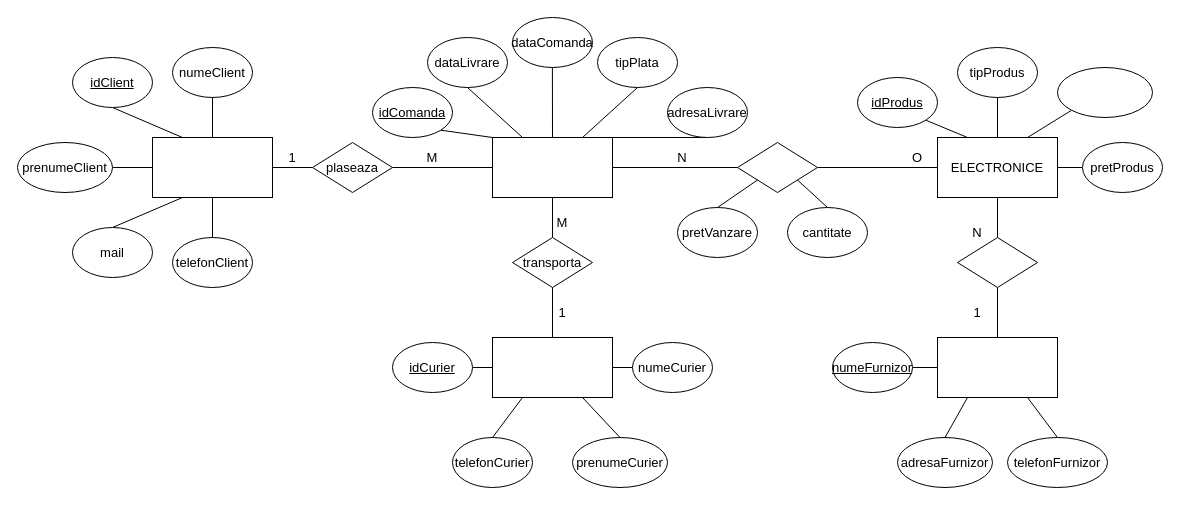
This 1180x506 diagram has some shape labels left out. The box of each missing label's shape, as (x1, y1, x2, y2) in pixels:
CLIENT: (152, 136, 272, 198)
COMANDA: (492, 136, 612, 198)
contine: (736, 142, 818, 192)
CURIER: (492, 336, 612, 398)
descriereProdus: (1056, 66, 1152, 118)
FURNIZOR: (936, 336, 1058, 398)
vinde: (956, 236, 1038, 288)
